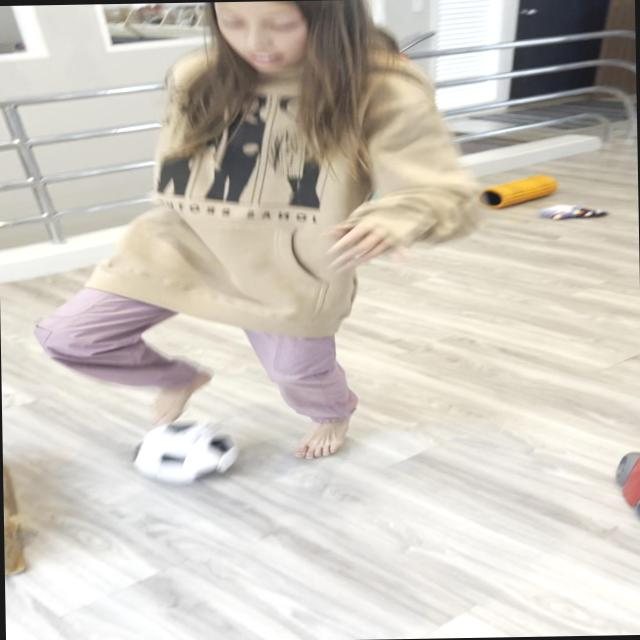Soccer Ball: (130, 419, 237, 484)
